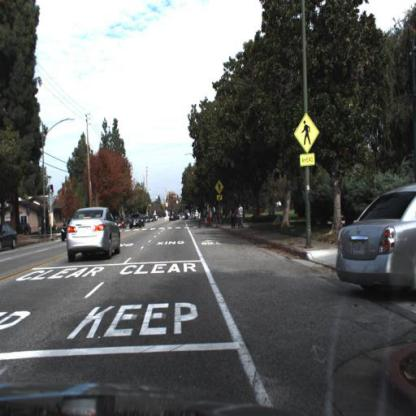car: (338, 182, 416, 307), (65, 214, 123, 264), (2, 223, 20, 253), (126, 211, 144, 232), (58, 215, 73, 239)
pedestrian: (230, 202, 239, 232), (238, 204, 248, 231)
